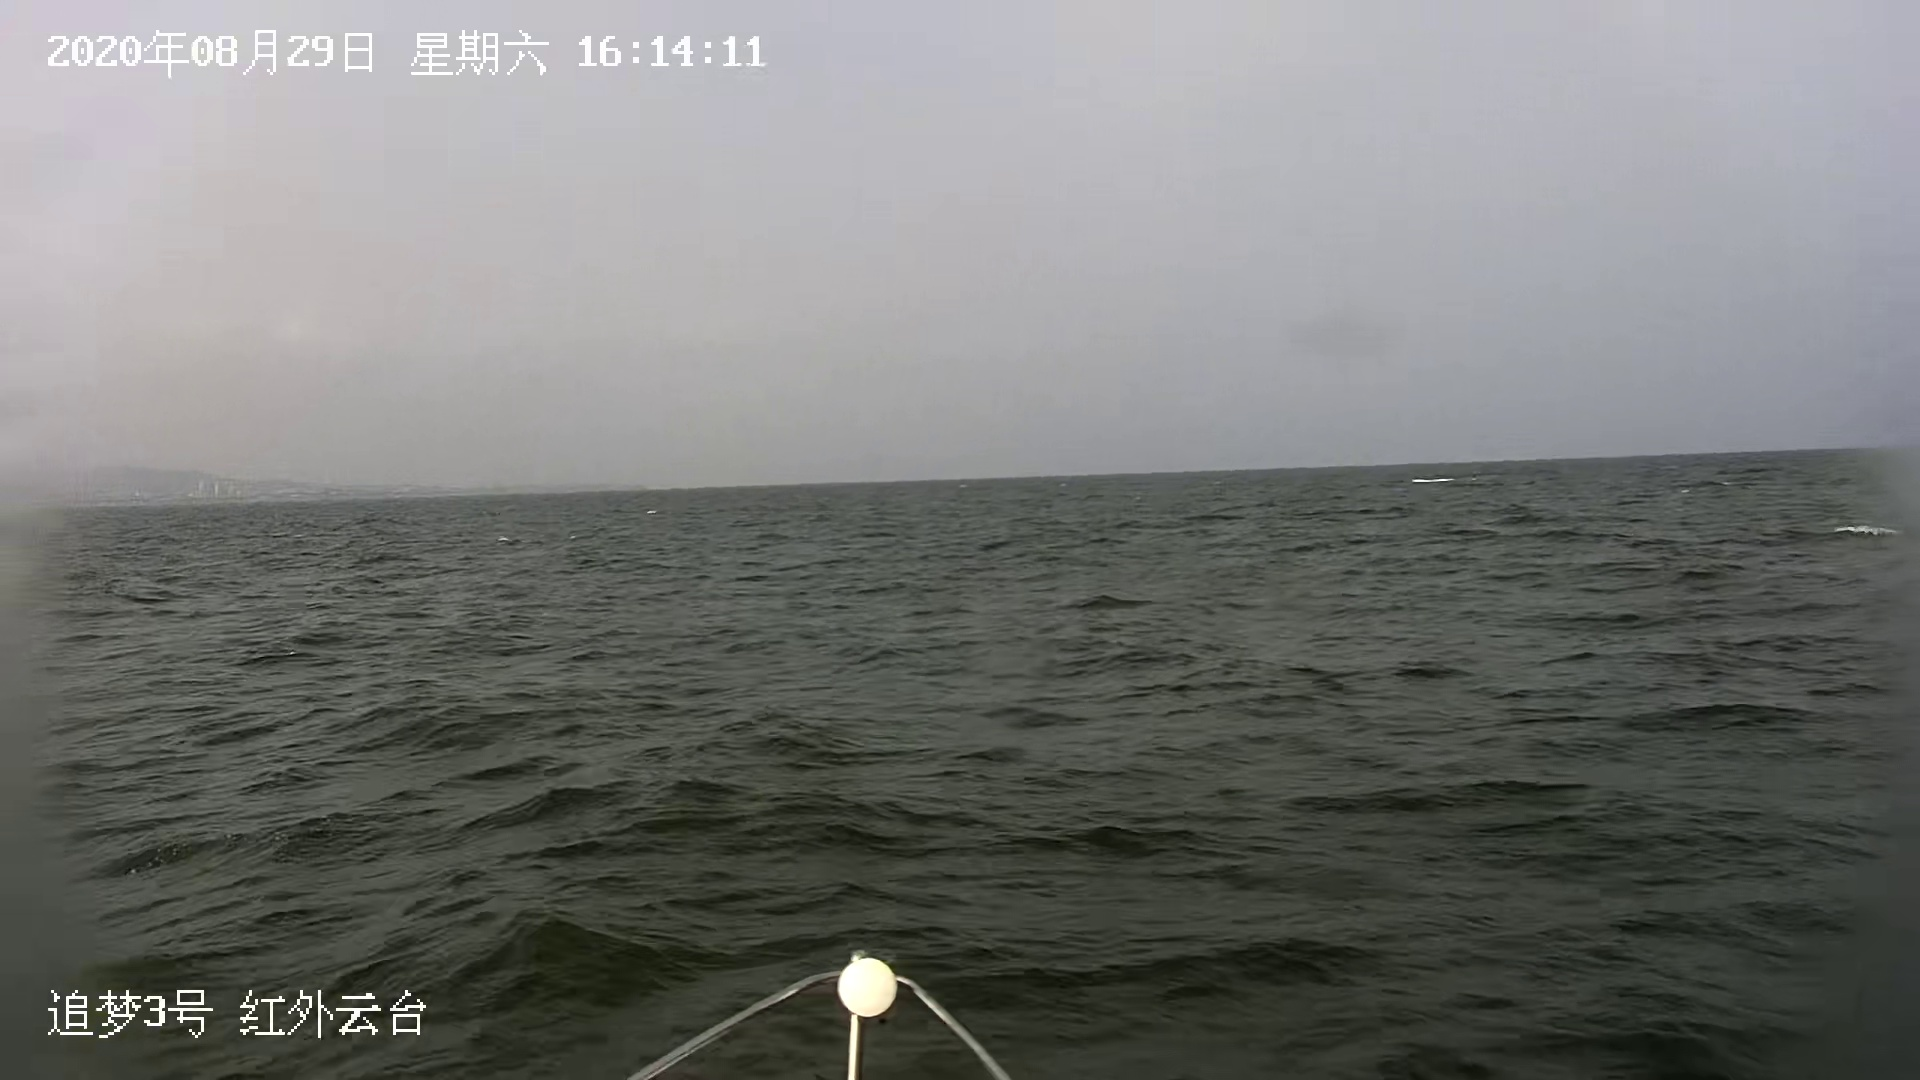coast: (26, 458, 702, 508)
